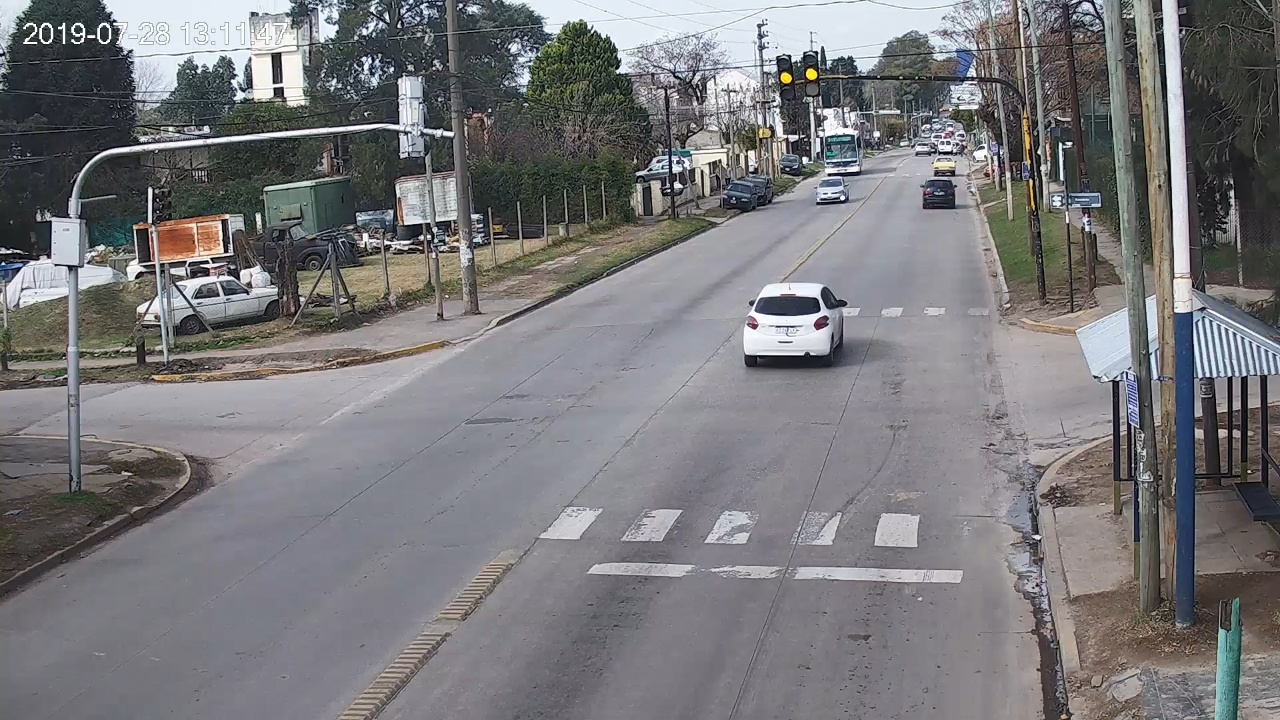car: (743, 282, 848, 367)
traffic light: (777, 55, 796, 99), (804, 52, 821, 97)
